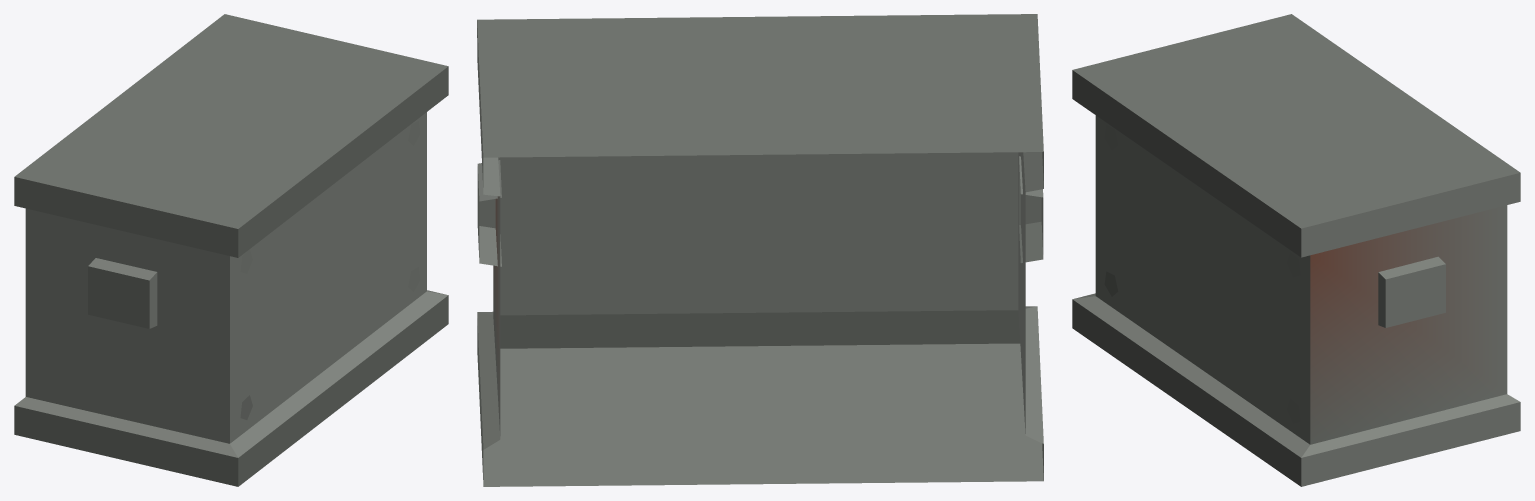
Rendered from MSH_QuestObject_container_01.fbx.
The picture shows the model from 3 angles, left to right: view 1: azimuth 30°, elevation 25°; view 2: azimuth 150°, elevation 25°; view 3: azimuth 270°, elevation 25°; orthographic projection. The views are drawn at different scales.
Parts seen in each view (by area): view 1: MSH_QuestObject_container_01; view 2: MSH_QuestObject_container_01; view 3: MSH_QuestObject_container_01.
Boxes of the visible parts, x1=… form: MSH_QuestObject_container_01: x1=14, y1=14, x2=448, y2=486; MSH_QuestObject_container_01: x1=477, y1=14, x2=1043, y2=486; MSH_QuestObject_container_01: x1=1072, y1=14, x2=1520, y2=486.
Bounding box in the file's own units: 1.71 × 0.9624 × 1.51.
